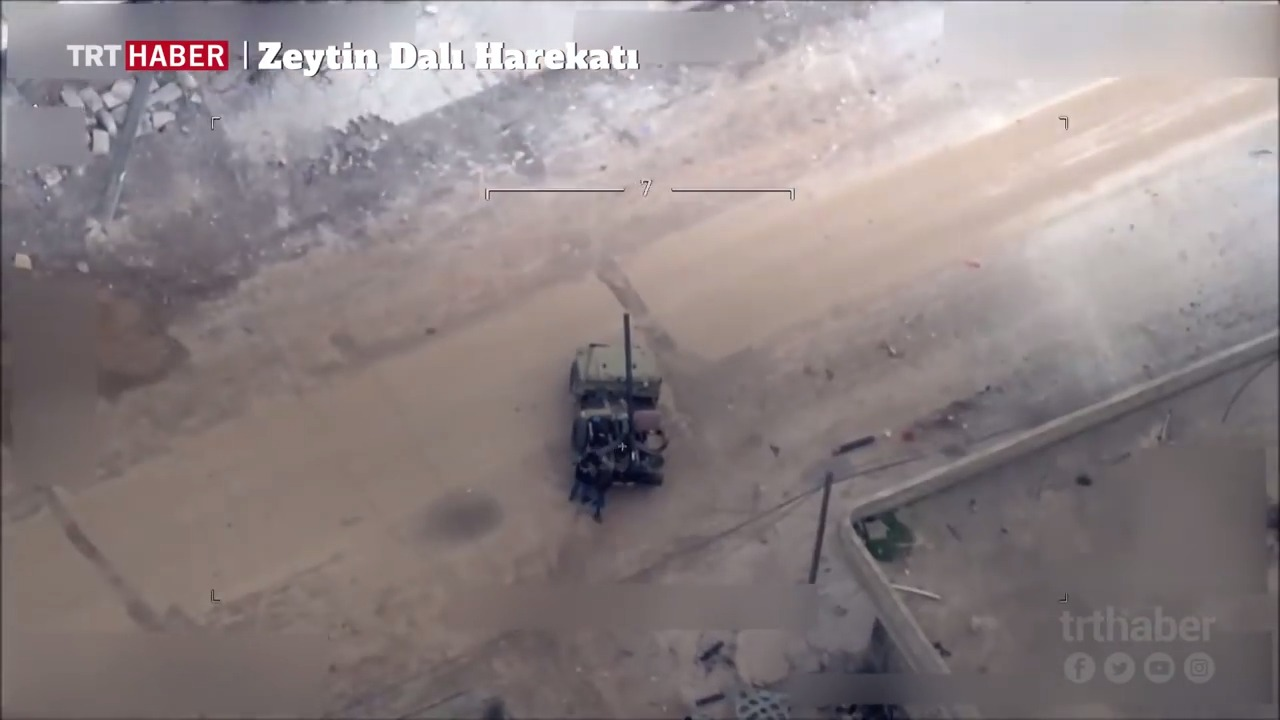arac: (574, 324, 666, 482)
insan: (553, 455, 592, 503), (591, 464, 618, 524)
